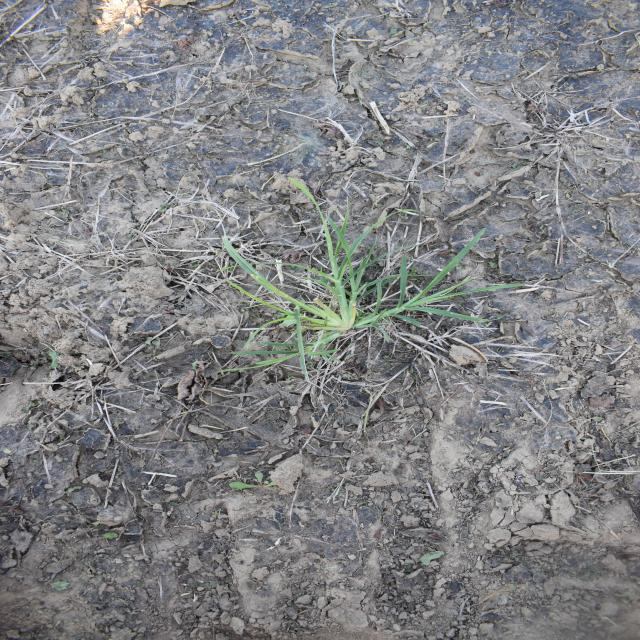Goosegrass: (214, 176, 528, 382)
